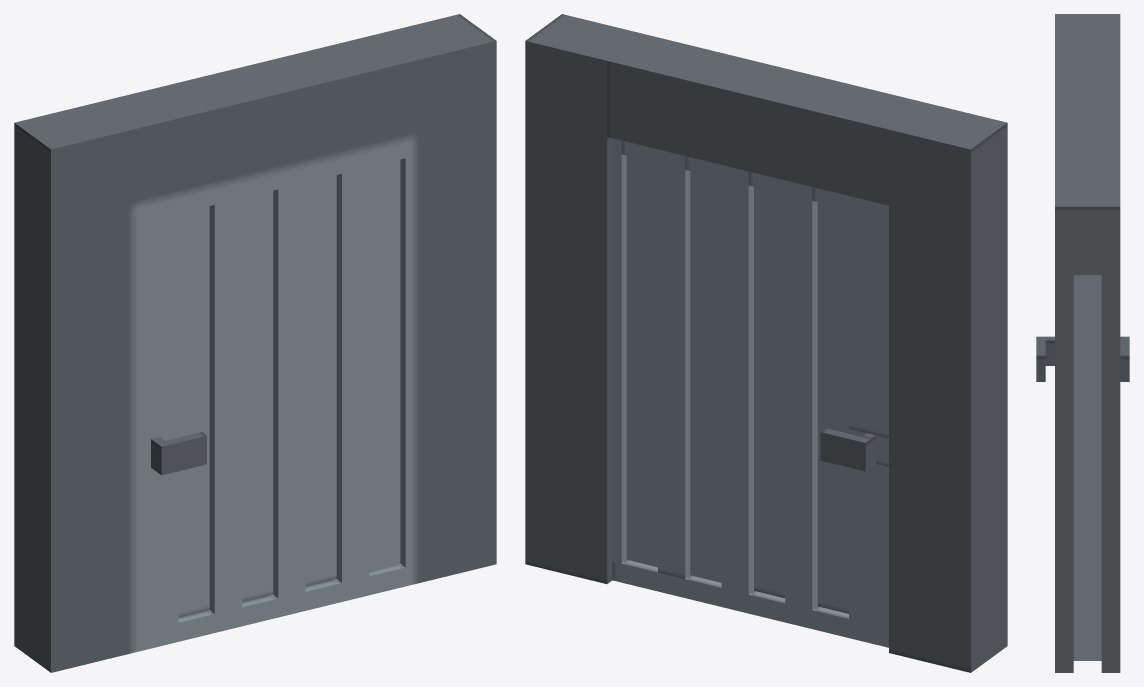
Rendered from drzwierza_1.dae.
3 renders of one model, left to right at view 1: azimuth 30°, elevation 25°; view 2: azimuth 150°, elevation 25°; view 3: azimuth 270°, elevation 25°, orthographic. The views are drawn at different scales.
Visible parts, largest first — view 1: Content; view 2: Content; view 3: Content.
Part boxes in pixels (x1=…): Content: x1=14, y1=14, x2=496, y2=672; Content: x1=525, y1=14, x2=1007, y2=672; Content: x1=1036, y1=14, x2=1129, y2=672.
Bounding box in the file's own units: 49 × 55 × 10.
Materials: 1 (1 with a texture image).
